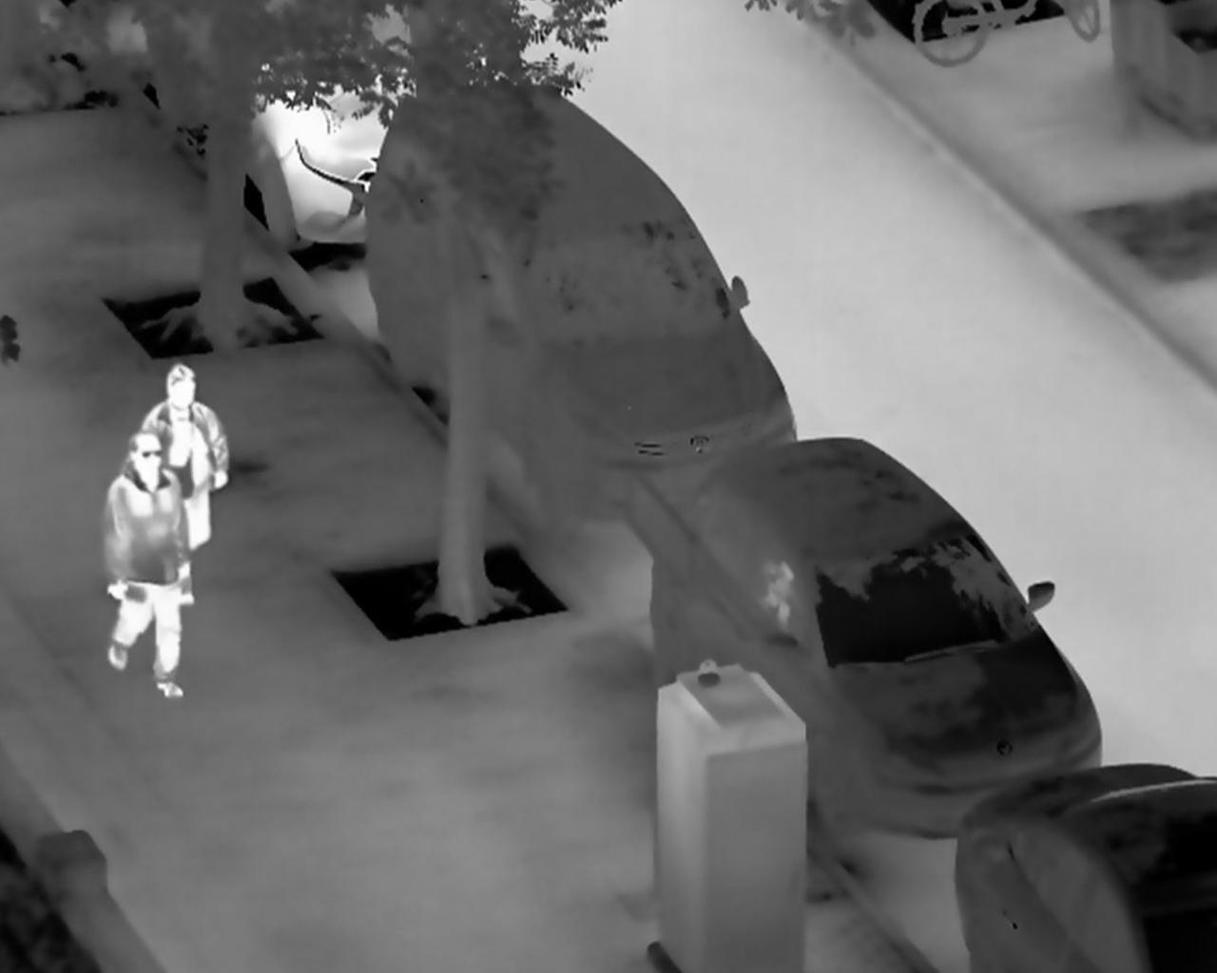person: (102, 429, 195, 703), (139, 362, 233, 553)
